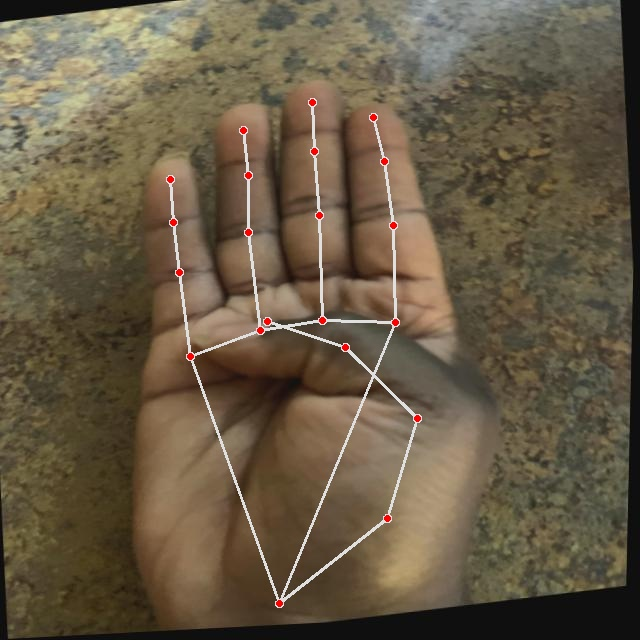B: (88, 54, 535, 635)
